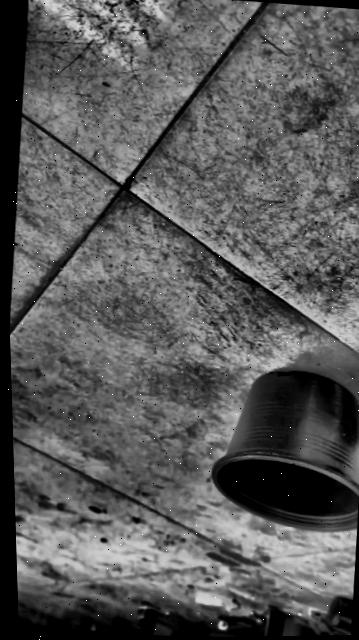pot: (203, 363, 359, 536)
